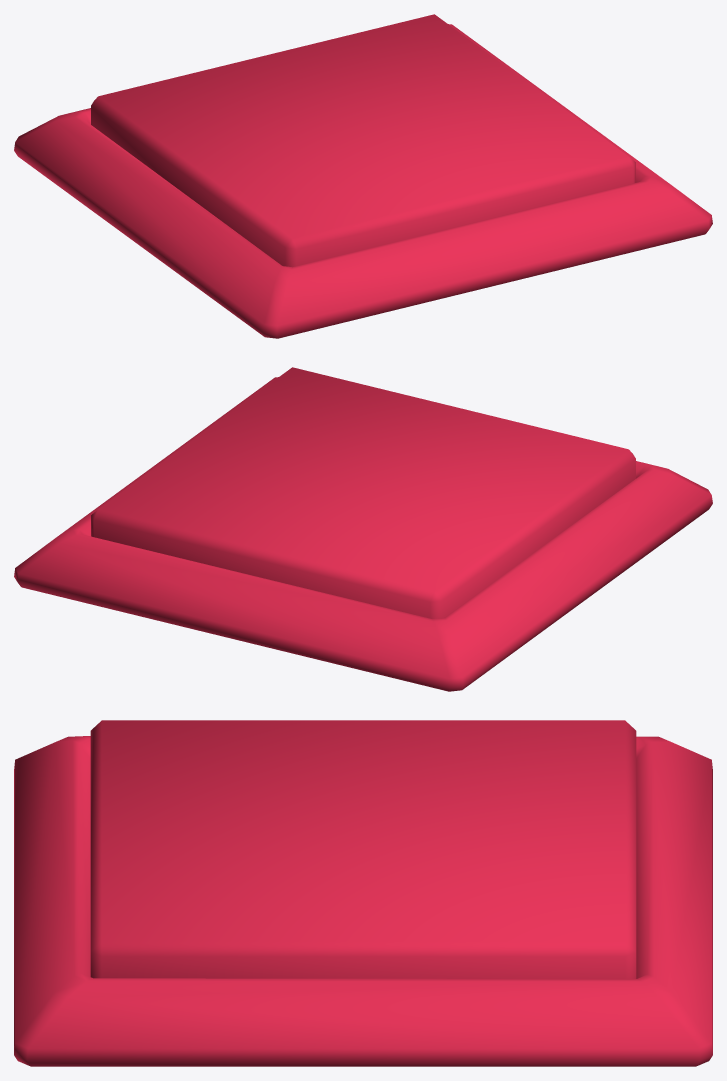
File: PressingPlate_01.fbx
The picture shows the model from 3 angles, top to bottom: view 1: azimuth 30°, elevation 25°; view 2: azimuth 150°, elevation 25°; view 3: azimuth 270°, elevation 25°; orthographic projection. The views are drawn at different scales.
Parts seen in each view (by area): view 1: PressingPlate_01_Low; view 2: PressingPlate_01_Low; view 3: PressingPlate_01_Low.
Boxes of the visible parts, <box> form: PressingPlate_01_Low: <box>14,14,712,338</box>; PressingPlate_01_Low: <box>14,367,712,691</box>; PressingPlate_01_Low: <box>14,720,712,1066</box>.
Size of the model in its own units: 197 by 27.8 by 197.
